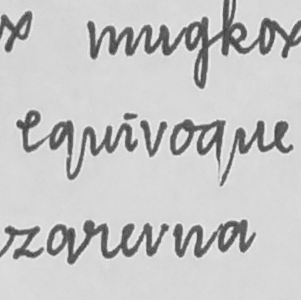e: (18, 107, 44, 155), (271, 118, 296, 156)
i: (117, 110, 138, 154)
o: (167, 117, 194, 157)
q: (195, 118, 228, 189), (47, 118, 77, 181)
u: (234, 117, 268, 156), (84, 122, 115, 157)
v: (139, 116, 166, 160)
